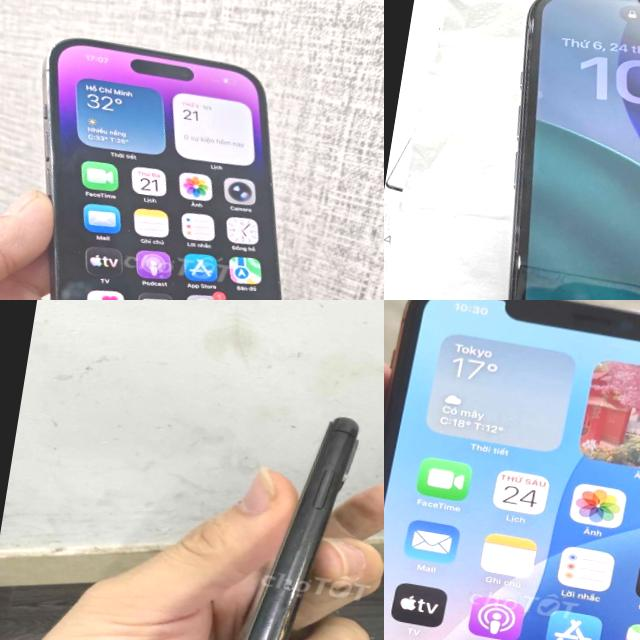scratch: (490, 37, 550, 210), (501, 219, 526, 244), (526, 10, 544, 38), (509, 249, 526, 275)
